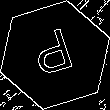P_S: (29, 25, 81, 85)
